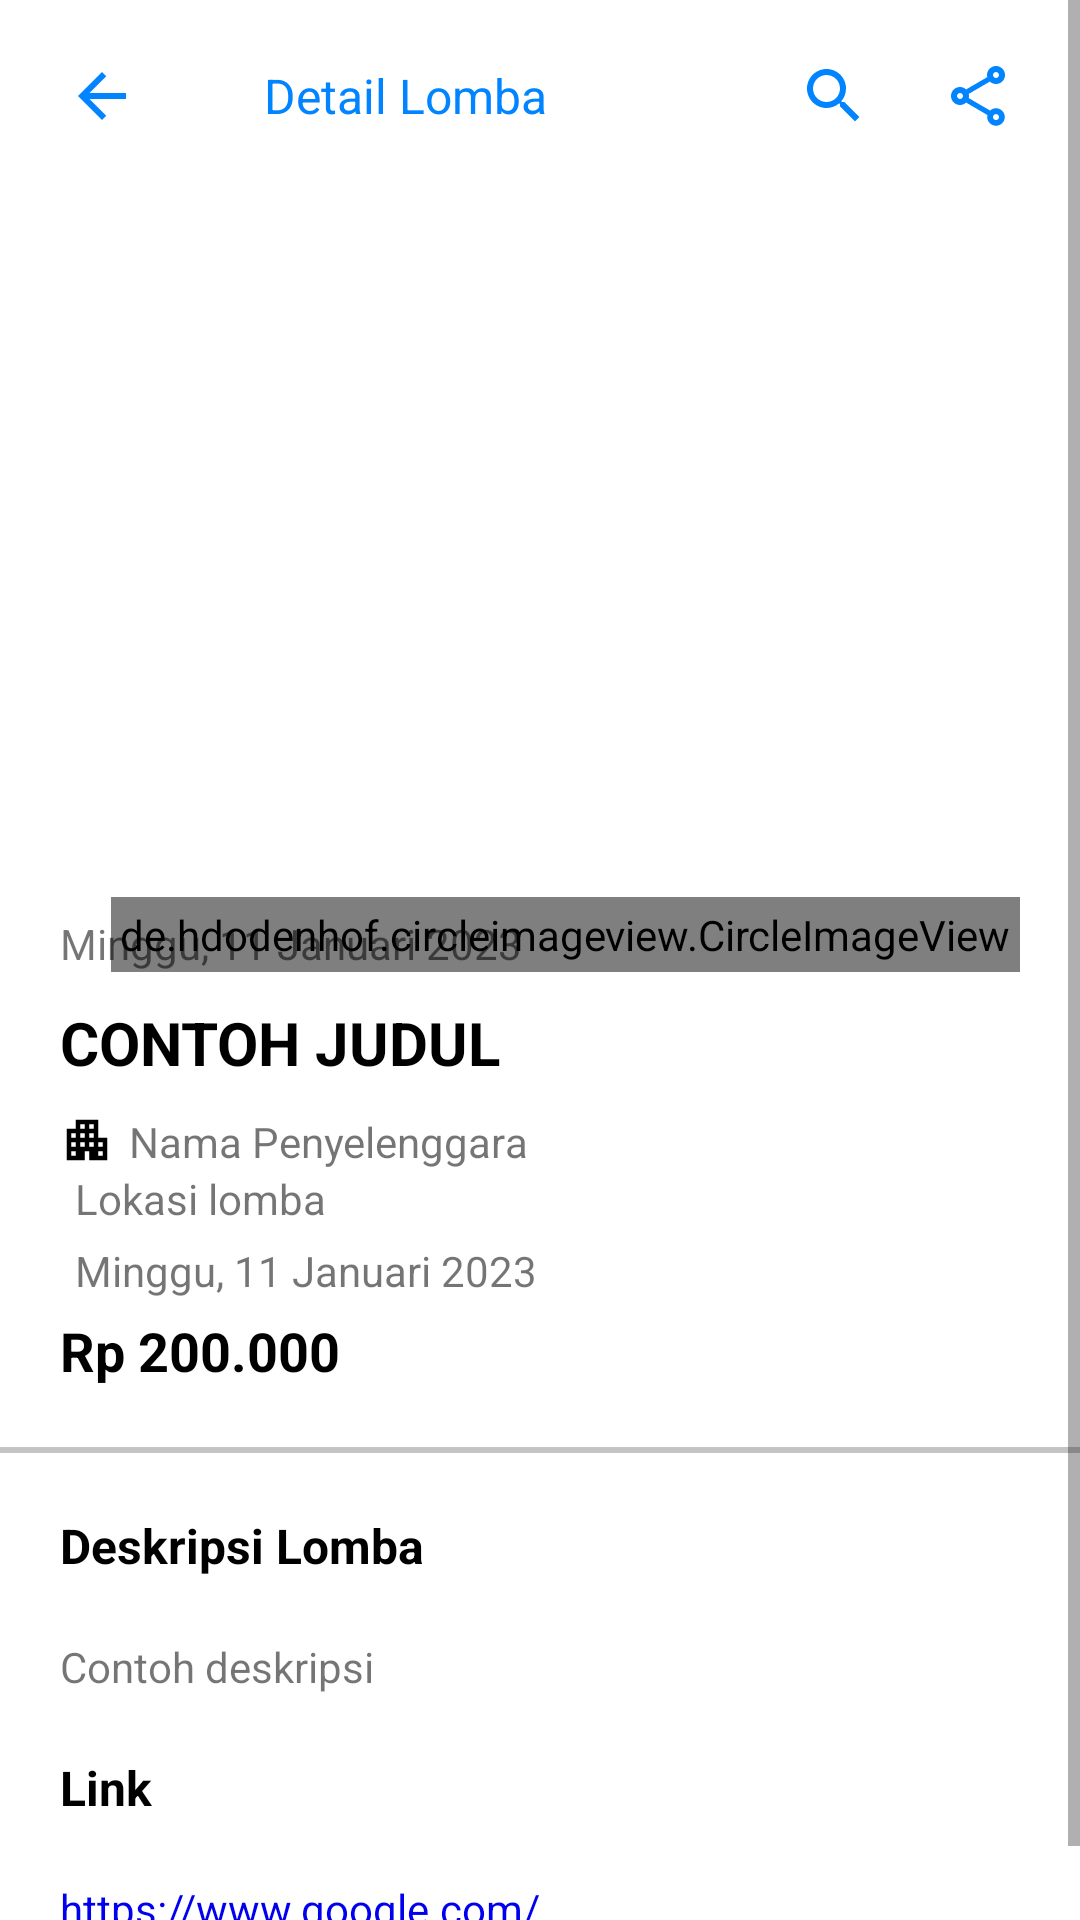

Icons on this 1080x1920 Android screen, each with its box as (x1, y1, x2, y2):
back: (78, 72, 126, 120)
search: (807, 69, 859, 121)
share: (951, 66, 1005, 126)
university: (66, 1119, 108, 1161)
